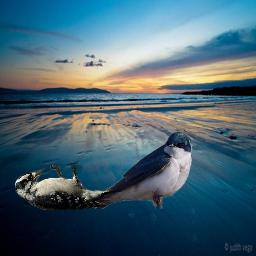Swallow: (81, 131, 193, 209)
Woodpecker: (15, 163, 122, 210)
